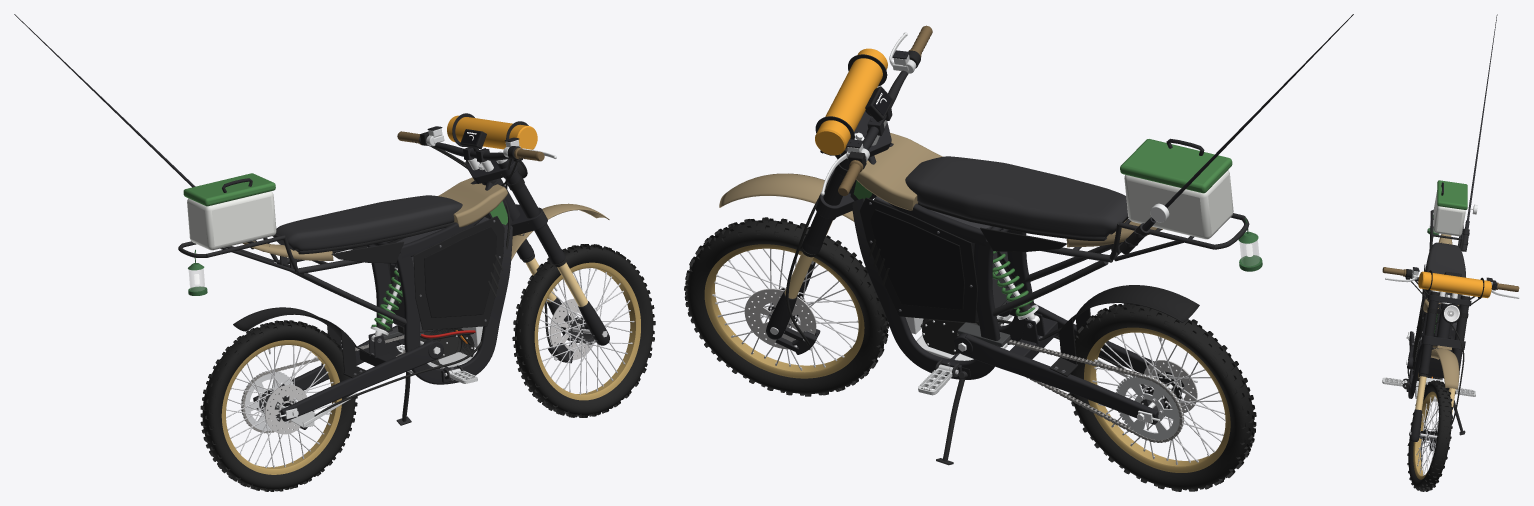
The model's file is surron-light-bee-x-camper.glb.
3 renders of one model, left to right at view 1: azimuth 30°, elevation 25°; view 2: azimuth 150°, elevation 25°; view 3: azimuth 270°, elevation 25°, orthographic. The views are drawn at different scales.
Visible parts, largest first — view 1: Tire_R, Tire_F, Seat, Frame_Main, SidePanel_Inner_R, Swingarm_Arms, Acc_Cooler, SidePanel_R, Rim_F, Rim_R, Spokes_F, Spokes_R (+14 smaller); view 2: Seat, Tire_F, Tire_R, Frame_Main, SidePanel_Inner_L, Swingarm_Arms, Acc_Cooler, Rim_F, Acc_Cooler_Lid, SidePanel_L, Rim_R, Acc_BarRoll (+18 smaller); view 3: Tire_F, Acc_BarRoll, Seat, Acc_Cooler, Acc_Cooler_Lid, FrontFender, Spokes_F, Fork_Upper_R, Rim_F, Frame_Main, Fork_Upper_L, Acc_Rod (+12 smaller).
Boxes of the visible parts, box(x1,y1,x2,y2) form: Tire_R: box(200, 320, 357, 491); Tire_F: box(512, 244, 655, 417); Seat: box(273, 195, 462, 250); Frame_Main: box(367, 180, 512, 384); SidePanel_Inner_R: box(424, 226, 496, 317); Swingarm_Arms: box(253, 325, 443, 421); Acc_Cooler: box(187, 191, 276, 250); SidePanel_R: box(413, 216, 504, 330); Rim_F: box(534, 262, 640, 400); Rim_R: box(221, 340, 341, 474); Spokes_F: box(538, 268, 633, 393); Spokes_R: box(226, 345, 333, 467); Seat: box(905, 156, 1128, 237); Tire_F: box(684, 217, 889, 396); Tire_R: box(1068, 303, 1256, 491); Frame_Main: box(850, 143, 1033, 379); SidePanel_Inner_L: box(870, 209, 964, 309); Swingarm_Arms: box(954, 294, 1189, 424); Acc_Cooler: box(1124, 170, 1233, 239); Rim_F: box(704, 244, 864, 378); Acc_Cooler_Lid: box(1120, 139, 1232, 193); SidePanel_L: box(859, 197, 977, 322); Rim_R: box(1084, 327, 1230, 472); Acc_BarRoll: box(815, 48, 887, 155); Tire_F: box(1407, 380, 1452, 491); Acc_BarRoll: box(1418, 271, 1491, 298); Seat: box(1425, 242, 1465, 304); Acc_Cooler: box(1433, 190, 1465, 236); Acc_Cooler_Lid: box(1437, 180, 1467, 209); FrontFender: box(1431, 348, 1459, 389); Spokes_F: box(1416, 397, 1438, 474); Fork_Upper_R: box(1419, 291, 1439, 374); Rim_F: box(1413, 391, 1437, 479); Frame_Main: box(1406, 292, 1454, 398); Fork_Upper_L: box(1453, 295, 1470, 374); Acc_Rod: box(1465, 14, 1497, 228).
Bounding box in the file's own units: 2.44 × 1.9 × 0.7598.
